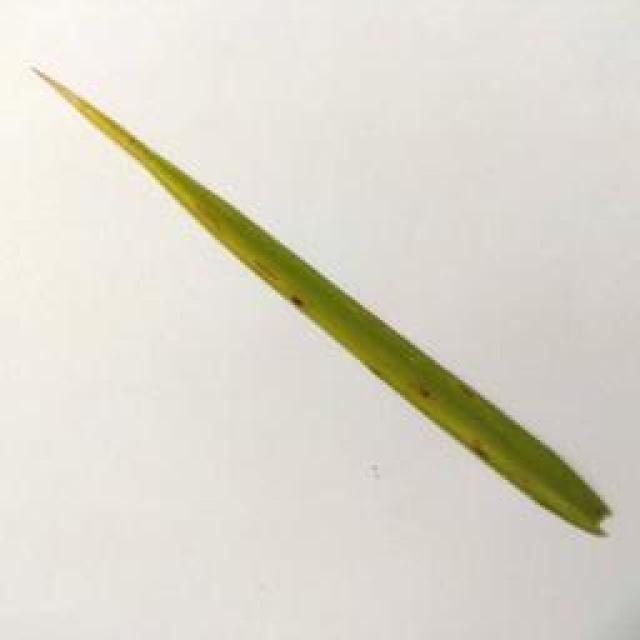Bacterial_Blight: (25, 0, 228, 270)
Brown_Spot: (449, 370, 487, 417), (466, 429, 497, 471), (281, 286, 311, 314), (406, 382, 431, 405)
